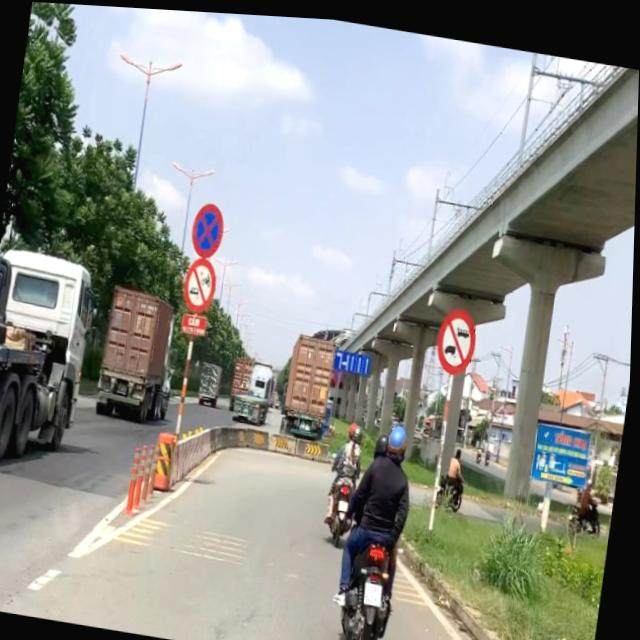Cam dung xe va do xe: (189, 196, 229, 259)
